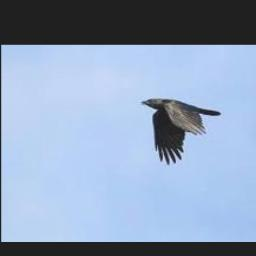Crow: (140, 99, 221, 165)
